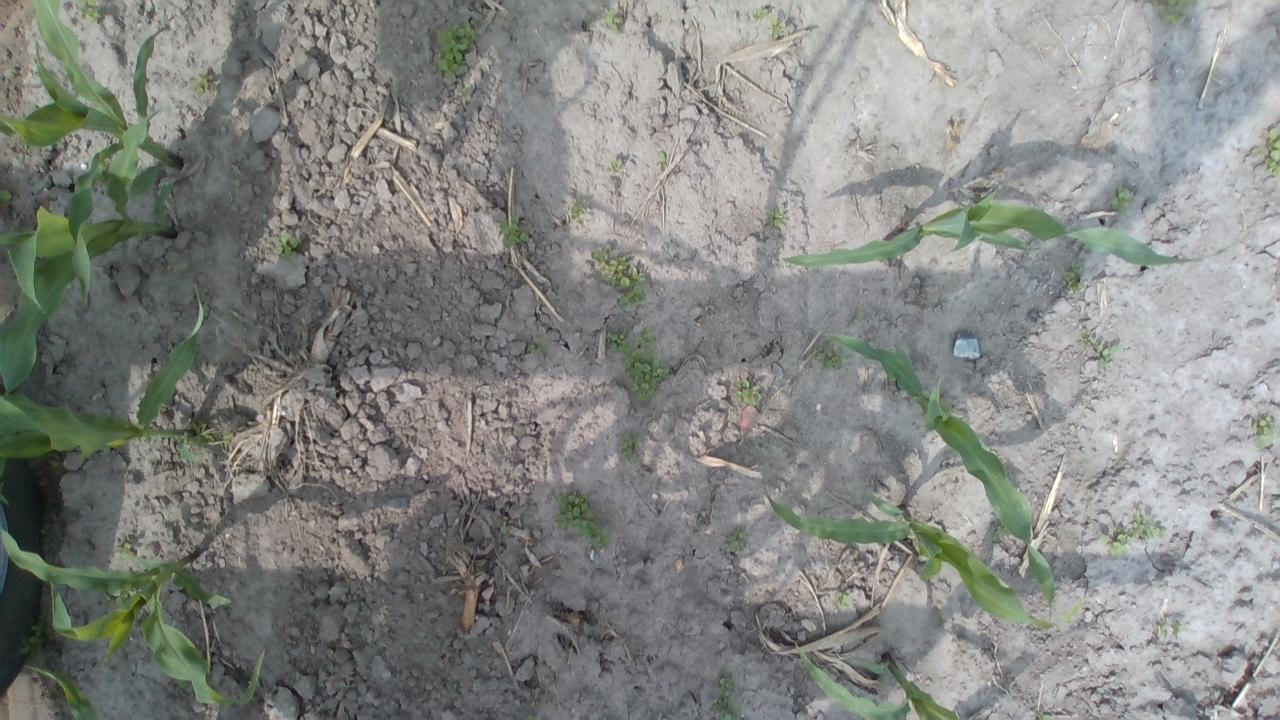Maize: (820, 329, 1056, 626), (0, 494, 265, 706), (0, 0, 181, 308), (0, 106, 178, 394), (761, 483, 1088, 631), (781, 184, 1241, 268), (0, 281, 205, 466), (792, 639, 966, 720), (30, 664, 104, 720)
Weeds: (552, 486, 612, 552), (587, 241, 648, 304), (432, 16, 478, 78), (623, 351, 671, 402), (1080, 330, 1122, 368), (16, 620, 46, 668), (1150, 0, 1200, 27), (496, 211, 529, 248), (180, 414, 215, 448), (1100, 526, 1132, 557), (1132, 510, 1162, 542), (734, 377, 764, 408), (812, 340, 844, 368), (271, 230, 303, 258), (1254, 414, 1280, 448), (1105, 186, 1135, 212), (1265, 126, 1280, 178), (102, 588, 140, 608), (190, 68, 217, 96), (112, 530, 136, 561), (1062, 258, 1083, 293), (75, 0, 105, 23), (1155, 619, 1187, 640), (620, 431, 640, 464), (721, 528, 747, 552), (632, 326, 656, 352), (604, 330, 630, 354), (711, 700, 741, 720), (718, 677, 737, 704), (766, 206, 788, 228), (525, 334, 546, 354), (568, 198, 586, 221), (769, 15, 786, 38), (834, 590, 852, 610), (606, 9, 620, 33), (496, 516, 511, 537), (753, 5, 771, 22), (606, 158, 622, 176), (222, 430, 235, 447), (0, 188, 13, 204), (462, 82, 474, 96), (656, 151, 668, 164), (1038, 713, 1053, 720), (623, 0, 629, 14)
